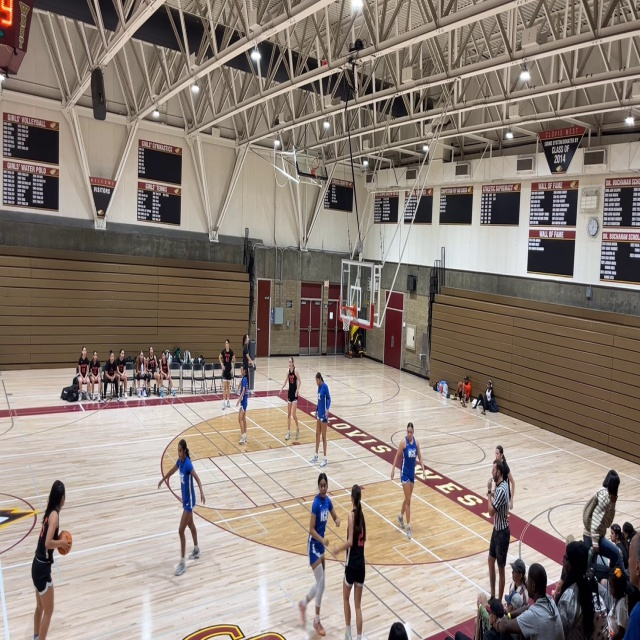Basketball: (57, 530, 72, 555)
